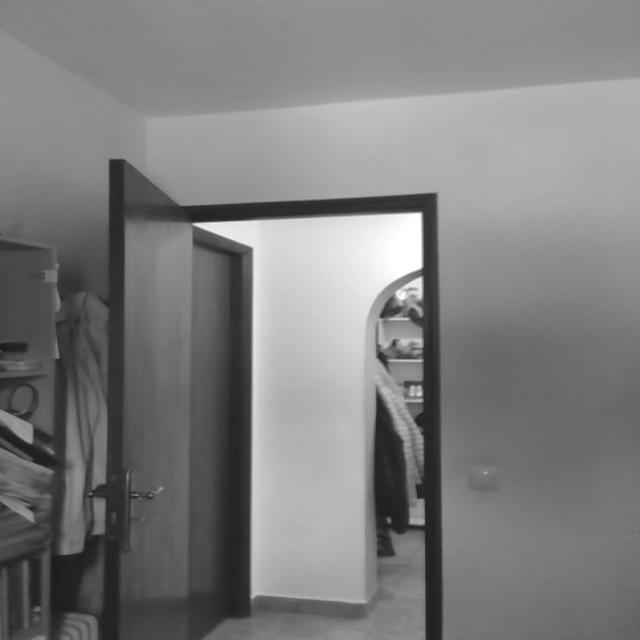door: (96, 150, 194, 640)
